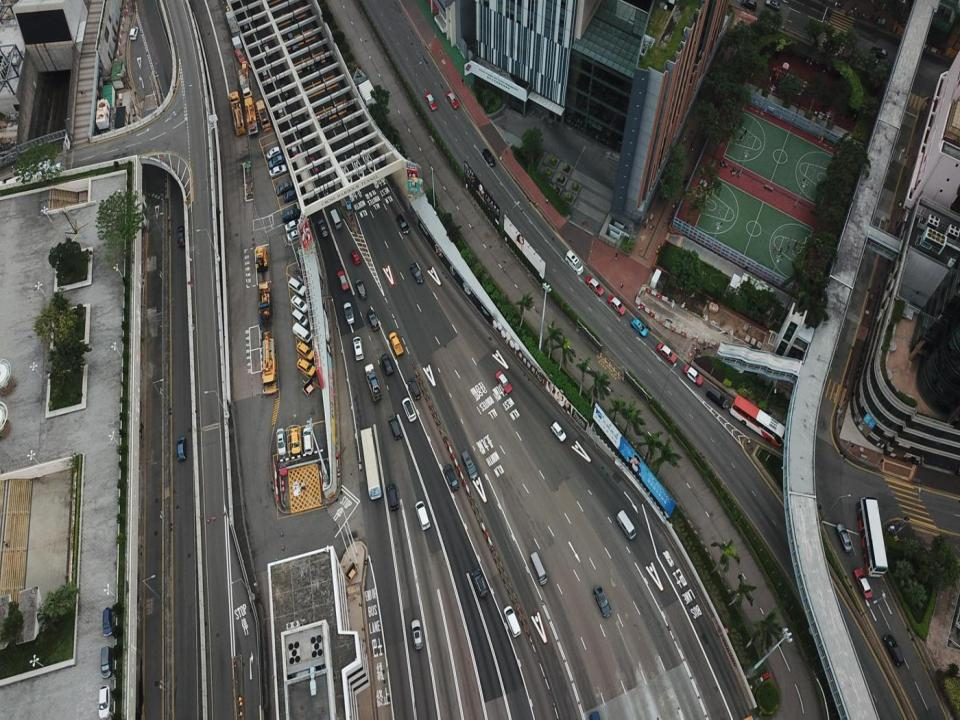bus: (730, 395, 786, 448), (856, 496, 888, 577), (360, 426, 381, 500), (294, 152, 314, 199), (330, 208, 341, 228)
car: (593, 584, 611, 618), (854, 566, 872, 598), (97, 685, 111, 719), (836, 523, 852, 551), (657, 342, 677, 364), (607, 294, 626, 316), (683, 366, 703, 386), (495, 370, 512, 393), (586, 275, 604, 296), (630, 317, 648, 337), (290, 294, 308, 313), (396, 213, 410, 235), (275, 180, 294, 196), (410, 262, 424, 283), (286, 227, 304, 243), (277, 428, 286, 456), (270, 164, 288, 178), (176, 436, 186, 461), (424, 92, 437, 111), (446, 90, 459, 109), (286, 217, 302, 232), (283, 188, 298, 203), (871, 46, 887, 60), (344, 302, 354, 324), (317, 218, 328, 238), (308, 156, 319, 175), (338, 270, 348, 290), (740, 0, 756, 12), (234, 48, 245, 64), (280, 82, 289, 100), (350, 249, 360, 265), (766, 0, 780, 11), (241, 60, 248, 79), (129, 26, 139, 39), (290, 141, 298, 157), (261, 67, 269, 83), (294, 120, 302, 134), (310, 60, 317, 74), (264, 42, 271, 56)
truck: (262, 330, 277, 394), (228, 91, 246, 136), (364, 363, 382, 401), (259, 282, 272, 326), (244, 96, 258, 136), (255, 100, 272, 132), (238, 68, 252, 100), (390, 332, 403, 356)
van: (883, 634, 905, 666), (616, 509, 636, 540), (530, 552, 548, 586), (503, 605, 521, 638), (705, 386, 727, 410), (461, 450, 478, 481), (471, 568, 488, 598), (565, 250, 584, 275), (415, 500, 430, 531), (292, 322, 313, 344), (100, 645, 113, 679), (444, 463, 458, 492), (296, 341, 316, 361), (296, 357, 317, 376), (288, 276, 307, 296), (411, 620, 423, 650), (401, 397, 416, 421), (388, 415, 402, 440), (291, 308, 308, 328), (102, 608, 114, 636), (302, 427, 314, 454), (550, 422, 566, 441), (281, 206, 300, 222), (290, 428, 301, 455), (388, 481, 398, 510), (408, 378, 421, 400), (367, 310, 380, 332), (353, 336, 364, 361), (268, 154, 285, 169), (483, 147, 496, 166), (288, 30, 299, 52), (266, 146, 282, 161), (381, 352, 392, 373), (356, 278, 366, 299), (275, 101, 285, 118), (241, 18, 249, 33)
